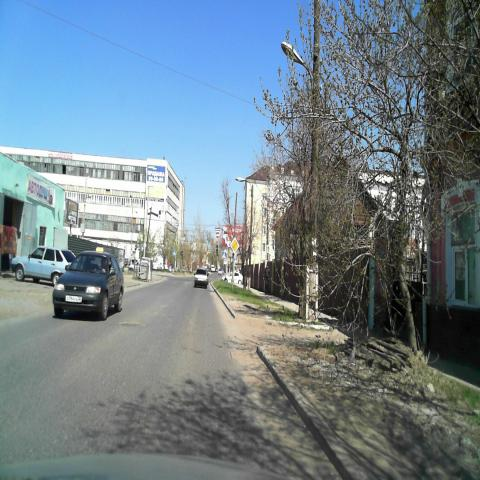2_2: (230, 237, 240, 253)
2_5: (215, 231, 220, 239)
5_19_1: (222, 251, 226, 259)
